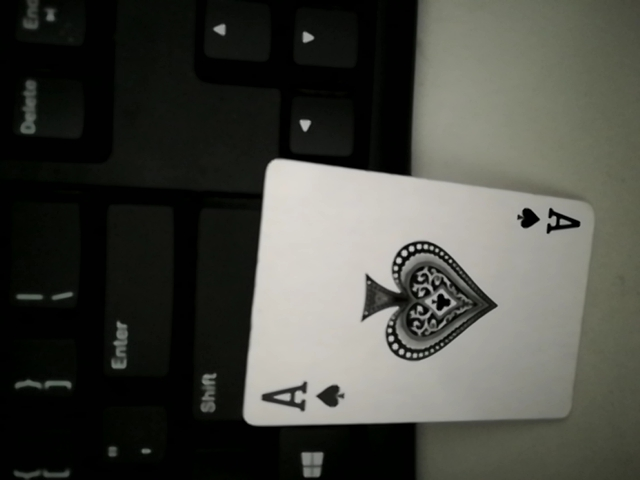ht a: (240, 156, 598, 434)
